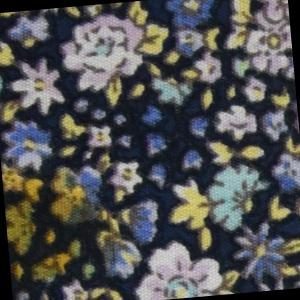Oil Stain: (2, 151, 136, 300)
